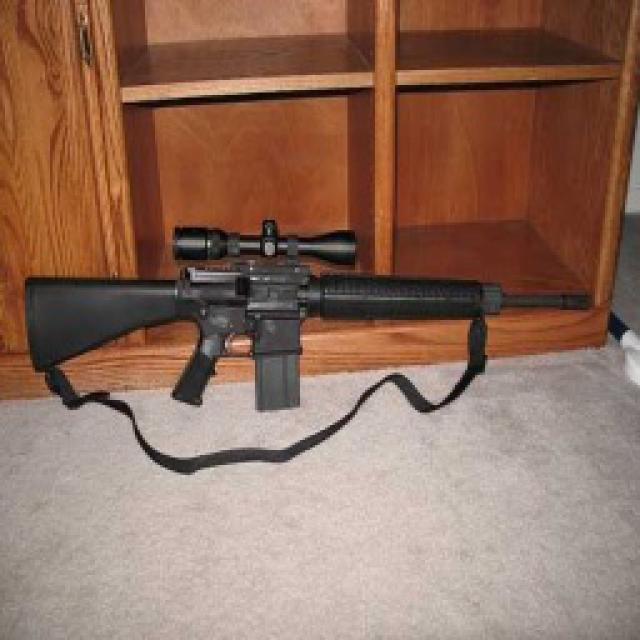long weapon: (18, 216, 603, 412)
